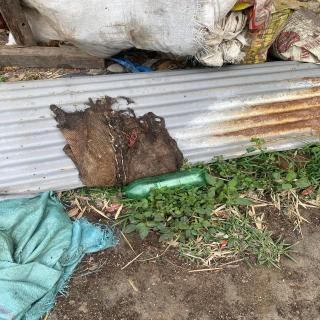Plastic-bottle: (115, 166, 213, 202)
